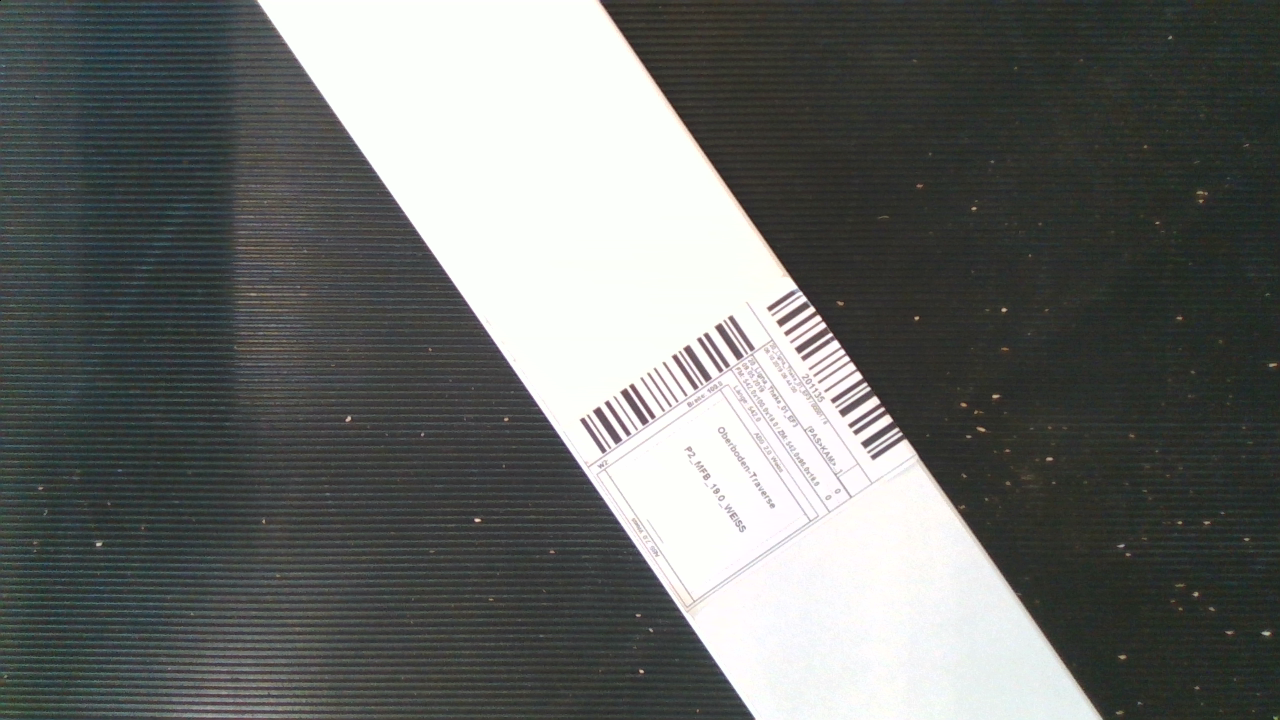barcode: (572, 279, 917, 622)
